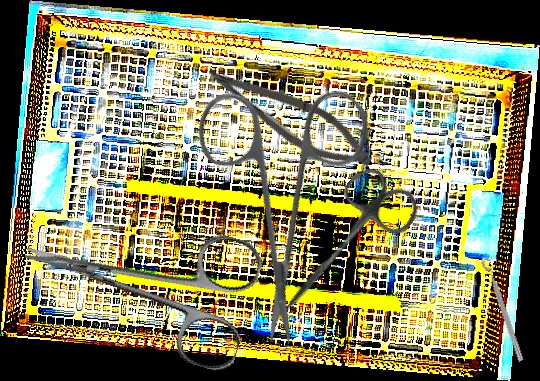Fixation Ring: (479, 253, 533, 363)
Iris Scissors: (121, 27, 445, 352), (9, 183, 267, 376), (255, 157, 427, 342)
Micro Scissor: (196, 56, 382, 180)
